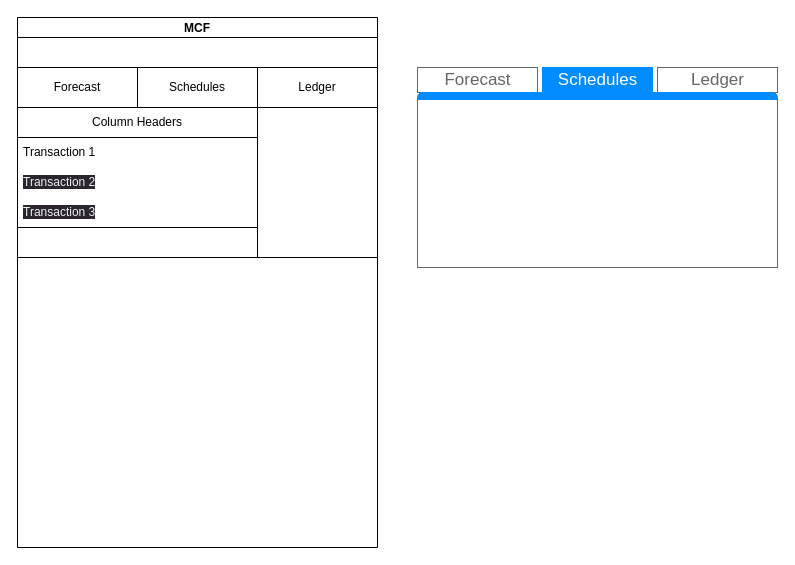
Some shapes in this 795 by 565 pixel diagram are drawn without their labels. Each missing label, with the centre of its shape:
"Chart Account Summaries" belongs at (317,182).
"My Cash Flow" belongs at (197,52).
"Totals" belongs at (137,242).
